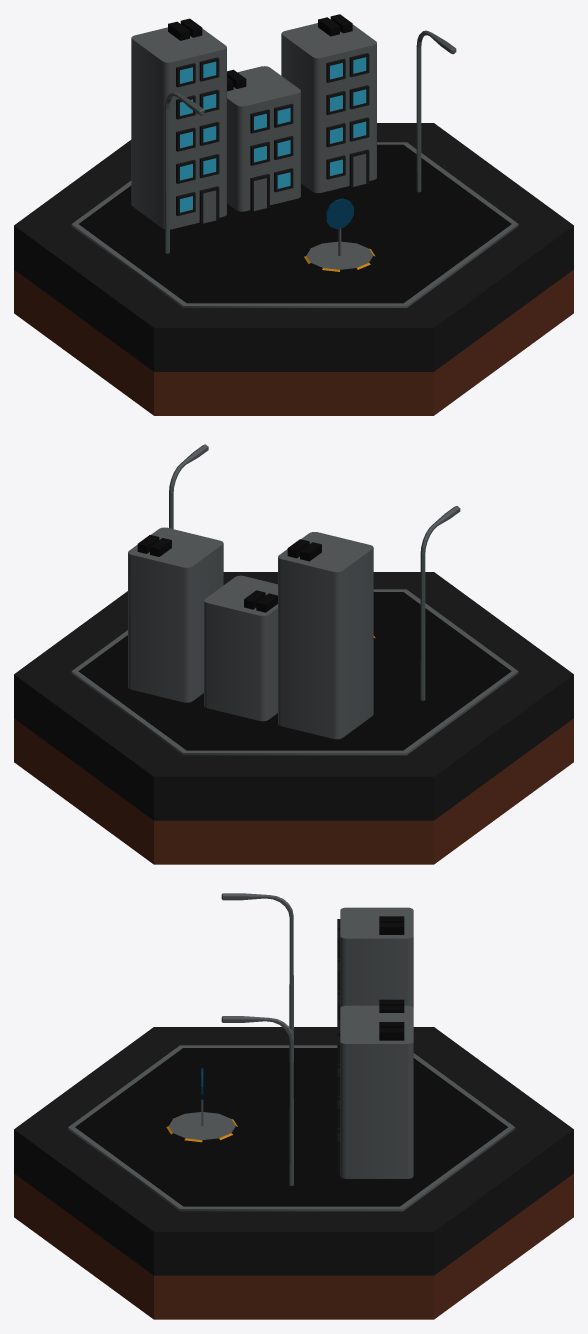
File: SM_City.FBX
3 renders of one model, top to bottom at view 1: azimuth 30°, elevation 25°; view 2: azimuth 150°, elevation 25°; view 3: azimuth 270°, elevation 25°, orthographic.
Visible parts, largest first — view 1: SM_City; view 2: SM_City; view 3: SM_City.
Part boxes in pixels (x1,y1,x2,y2): SM_City: (14,14,573,415); SM_City: (14,444,573,864); SM_City: (14,893,573,1319).
Size of the model in its own units: 100 by 115 by 60.6.
